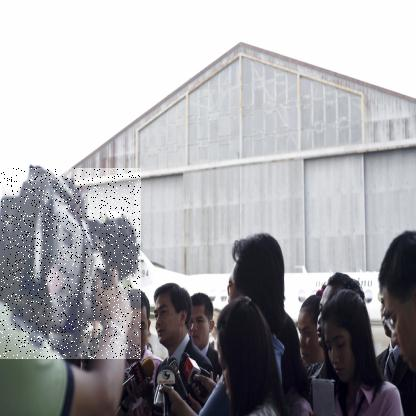Camera: (1, 169, 143, 361)
